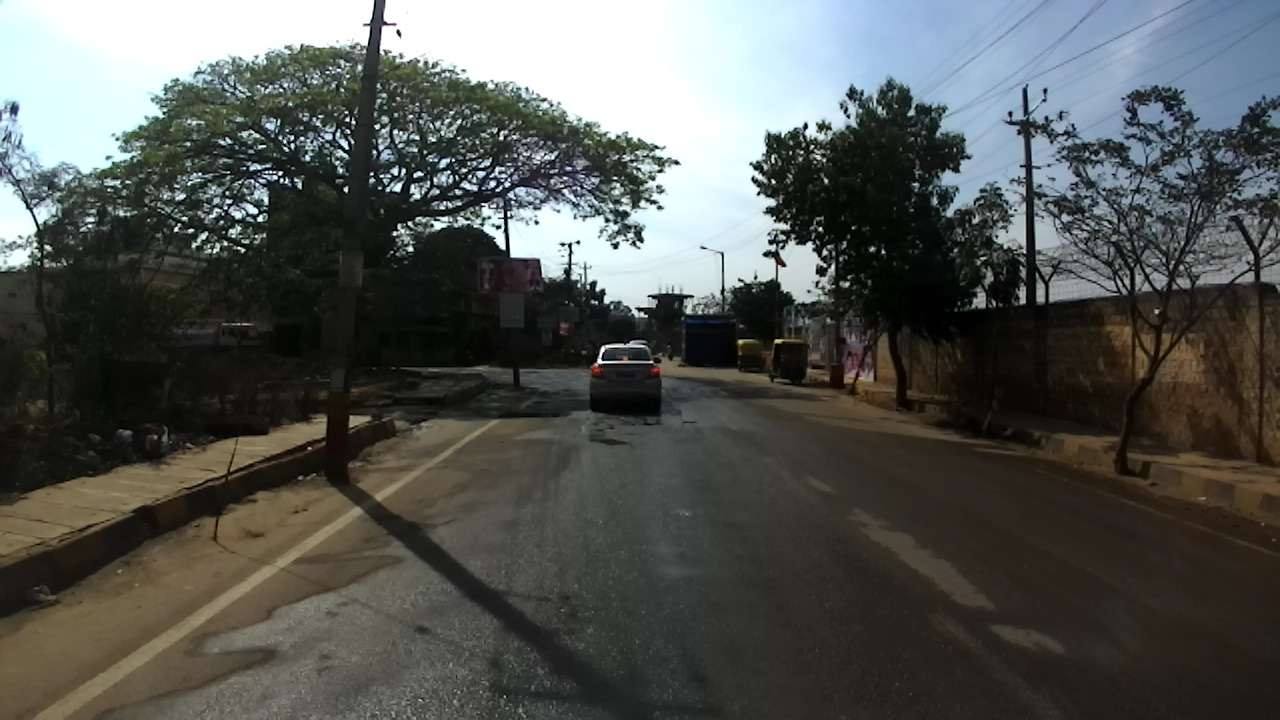autorickshaw: (768, 339, 812, 385), (735, 337, 763, 372)
car: (591, 342, 663, 410), (630, 340, 650, 351)
motorcycle: (554, 347, 583, 367), (453, 346, 475, 365), (586, 349, 599, 367), (668, 348, 674, 360)
rider: (586, 341, 597, 363), (666, 340, 671, 354)
truck: (159, 323, 263, 361)
